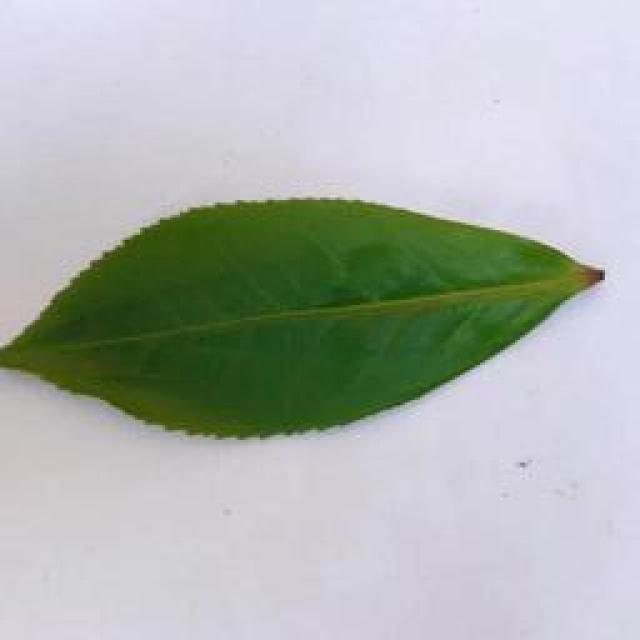Healthy: (4, 174, 614, 456)
